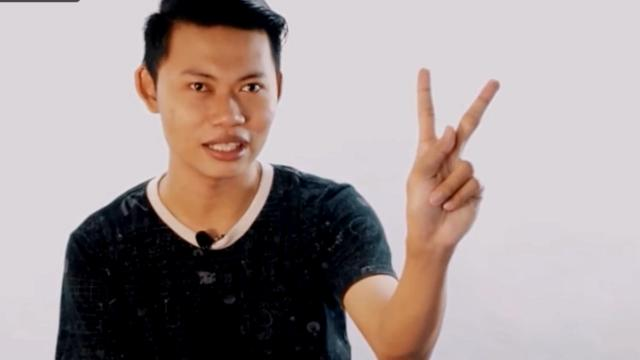K: (404, 66, 501, 248)
